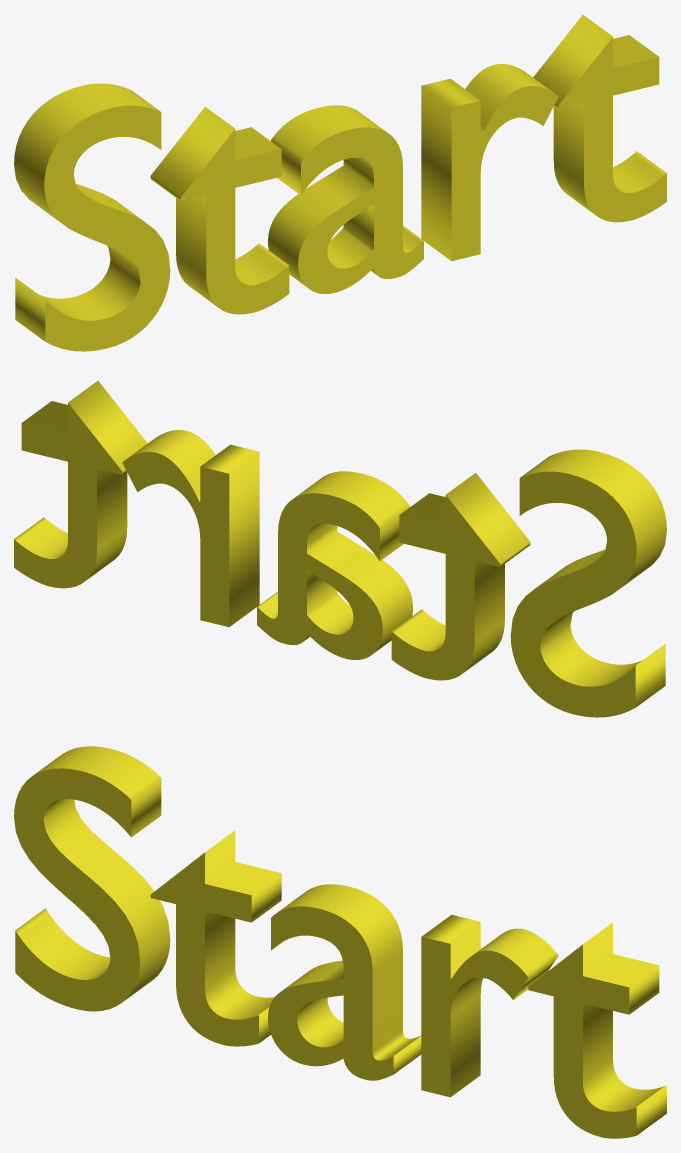
3 views of the same model, one above another, from view 1: azimuth 30°, elevation 25°; view 2: azimuth 150°, elevation 25°; view 3: azimuth 330°, elevation 25° (orthographic).
Parts seen in each view (by area): view 1: text3; view 2: text3; view 3: text3.
Boxes of the visible parts, x1,y1,x2,y2 form: text3: (14,15,666,351); text3: (14,381,666,717); text3: (14,746,666,1138).
Bounding box in the file's own units: 1.91 × 0.7 × 0.16.
